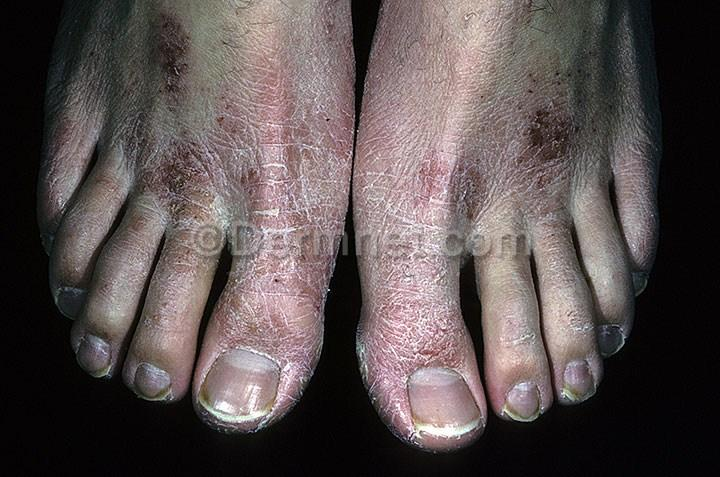Eczema: (237, 0, 365, 182), (107, 0, 250, 145), (363, 0, 456, 158), (359, 149, 463, 277), (448, 0, 557, 120), (563, 37, 661, 162), (460, 109, 559, 227), (228, 174, 332, 280), (127, 137, 234, 236), (228, 275, 320, 370), (377, 275, 454, 368), (34, 97, 95, 183), (352, 366, 407, 424)
